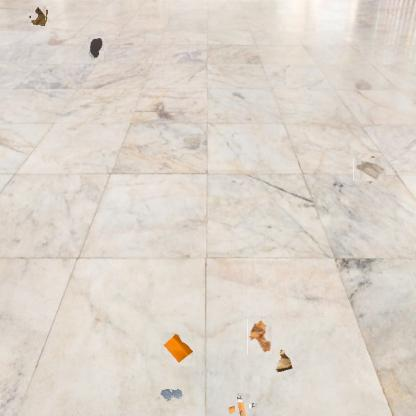dirty: (161, 332, 195, 366), (247, 320, 272, 355), (356, 155, 384, 184), (274, 348, 294, 374), (230, 396, 253, 416), (29, 7, 47, 25)
liquid: (160, 390, 184, 406), (89, 36, 104, 60)
